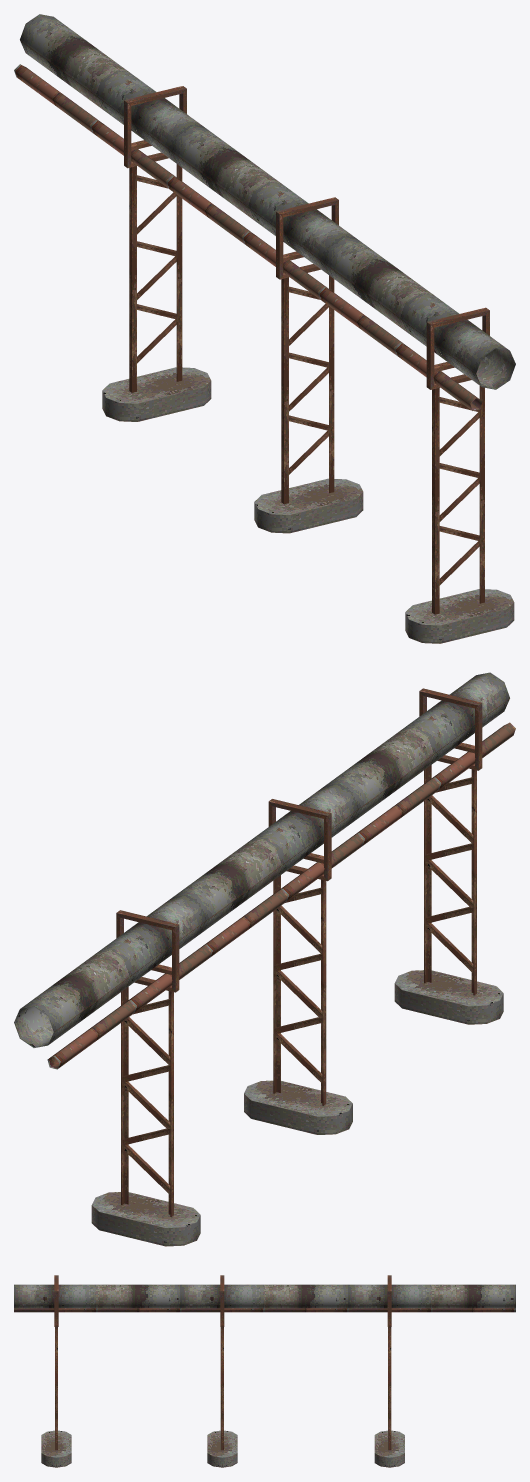
Rendered from pipes_horizontal_long.glb.
3 renders of one model, top to bottom at view 1: azimuth 30°, elevation 25°; view 2: azimuth 150°, elevation 25°; view 3: azimuth 270°, elevation 25°, orthographic. The views are drawn at different scales.
Visible parts, largest first — view 1: Pipes_horizontal_long; view 2: Pipes_horizontal_long; view 3: Pipes_horizontal_long.
Part boxes in pixels (left/top/right/bottom): Pipes_horizontal_long: left=14, top=14, right=515, bottom=643; Pipes_horizontal_long: left=14, top=672, right=515, bottom=1246; Pipes_horizontal_long: left=14, top=1275, right=515, bottom=1467.
Size of the model in its own units: 1.77 by 5.15 by 13.75.
1 material, 1 textured.
